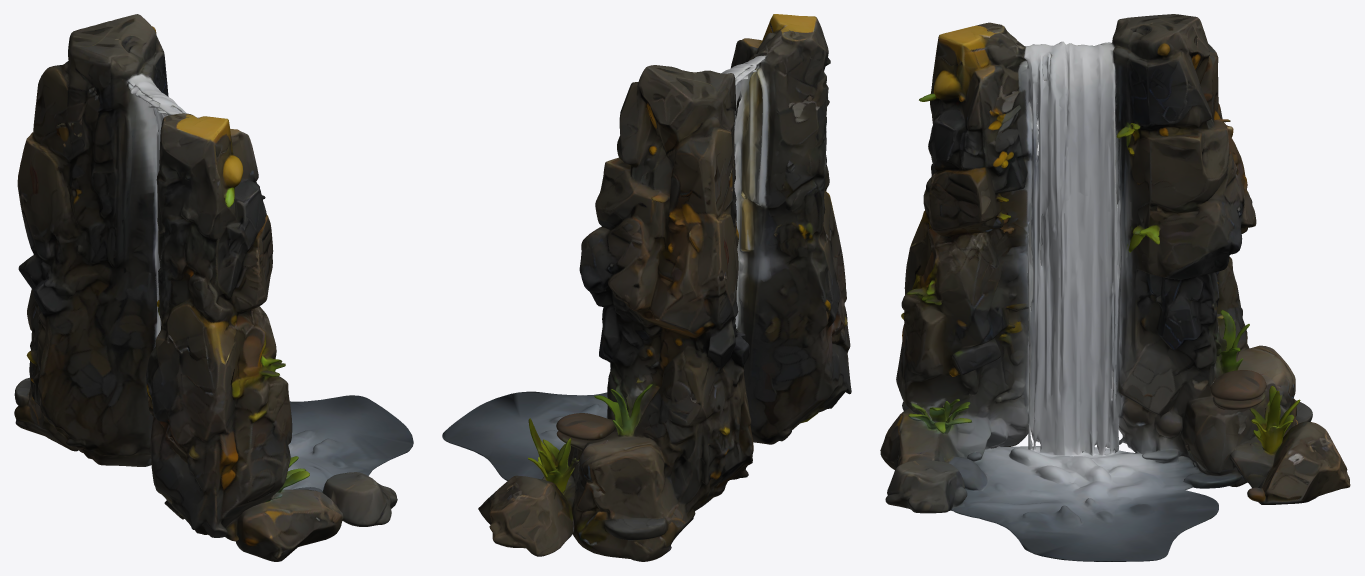
Rendered from nature-waterfall.glb.
3 renders of one model, left to right at view 1: azimuth 30°, elevation 25°; view 2: azimuth 150°, elevation 25°; view 3: azimuth 270°, elevation 25°, orthographic.
Visible parts, largest first — view 1: tripo_node_ab6feaac-a17e-4a79-8b65-d6a4bacaa4b8; view 2: tripo_node_ab6feaac-a17e-4a79-8b65-d6a4bacaa4b8; view 3: tripo_node_ab6feaac-a17e-4a79-8b65-d6a4bacaa4b8.
Part boxes in pixels (x1,y1,x2,y2): tripo_node_ab6feaac-a17e-4a79-8b65-d6a4bacaa4b8: (14, 14, 413, 561); tripo_node_ab6feaac-a17e-4a79-8b65-d6a4bacaa4b8: (442, 14, 851, 561); tripo_node_ab6feaac-a17e-4a79-8b65-d6a4bacaa4b8: (880, 14, 1350, 561).
Bounding box in the file's own units: 7.59 × 10 × 9.74.
Materials: 1 (1 with a texture image).
